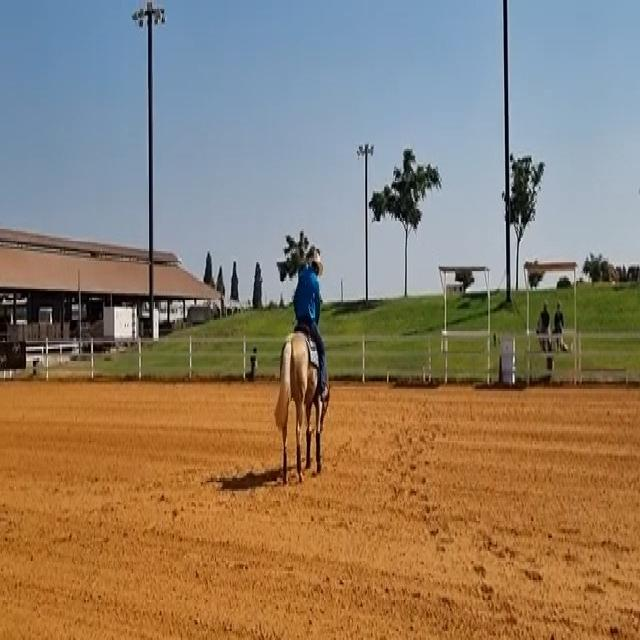horse: (273, 322, 329, 484)
